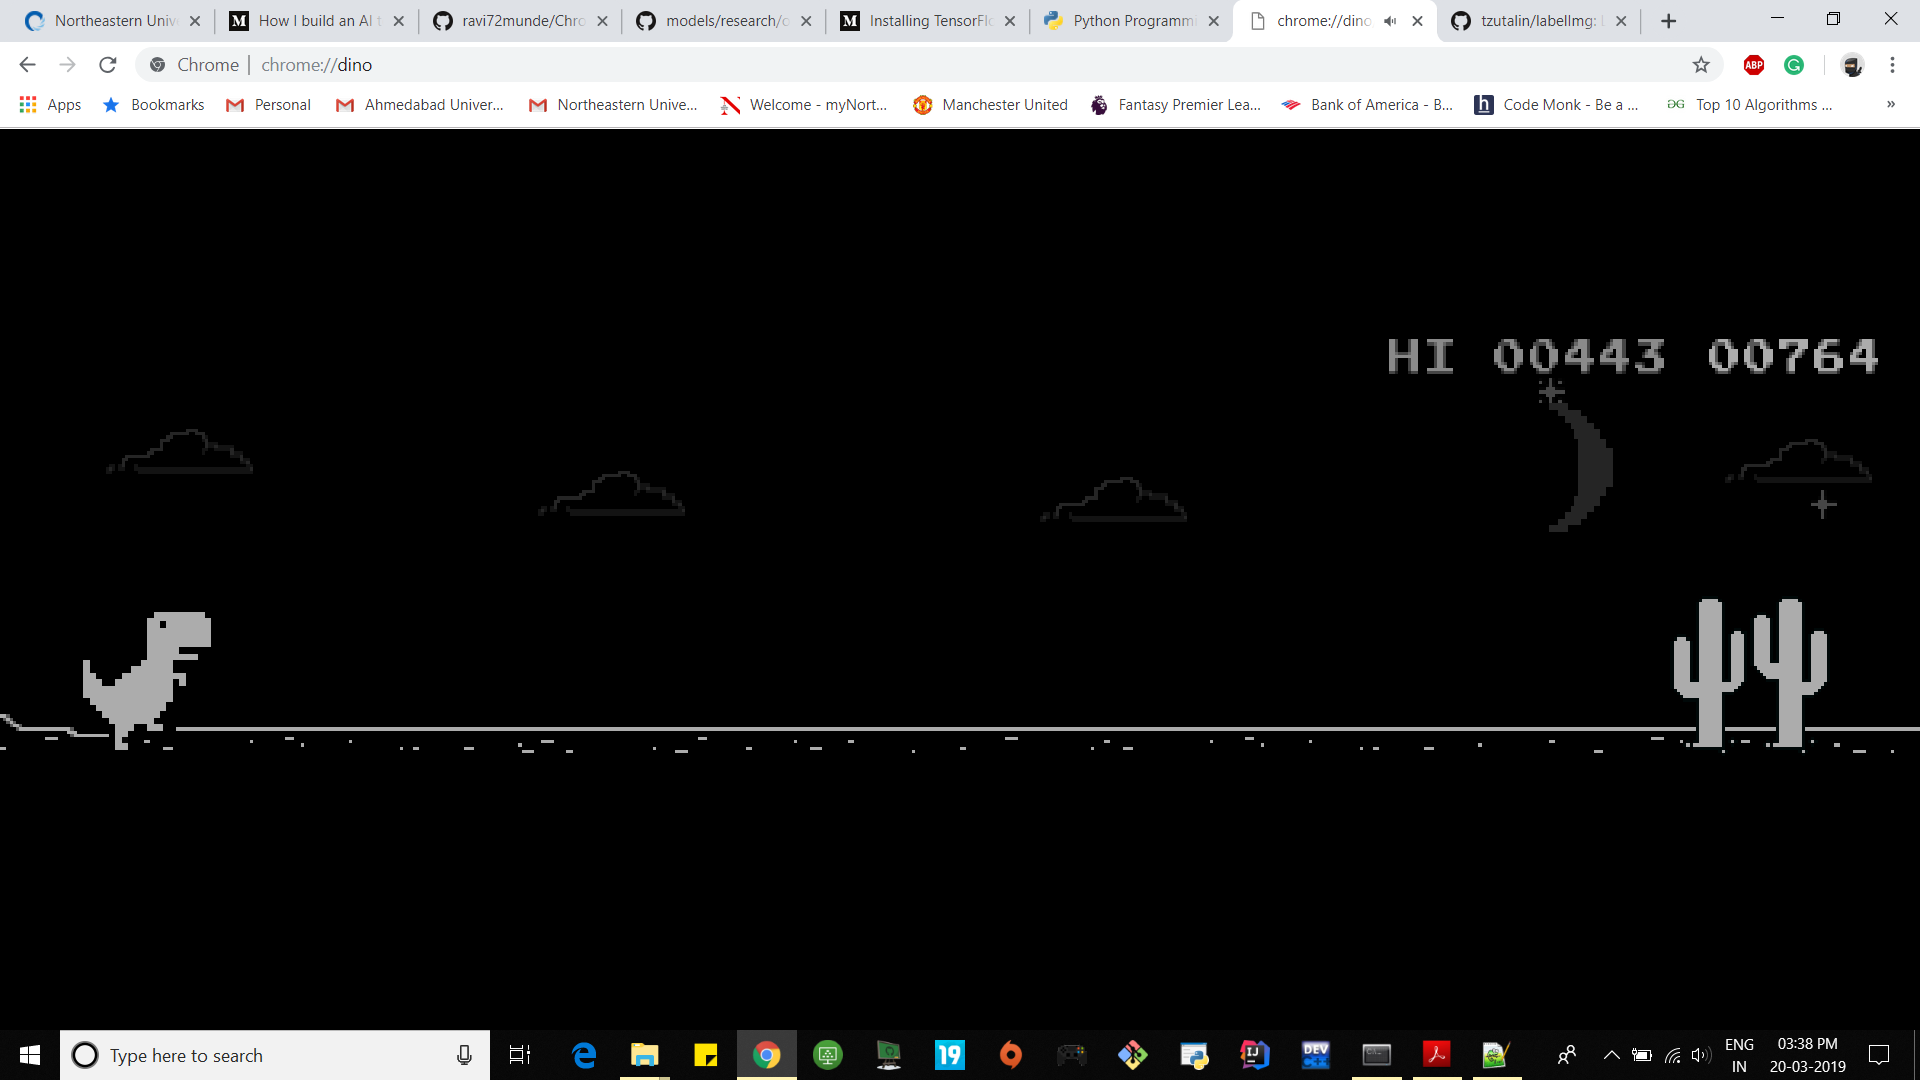cactus-2: (1664, 595, 1832, 750)
dino: (82, 611, 211, 760)
